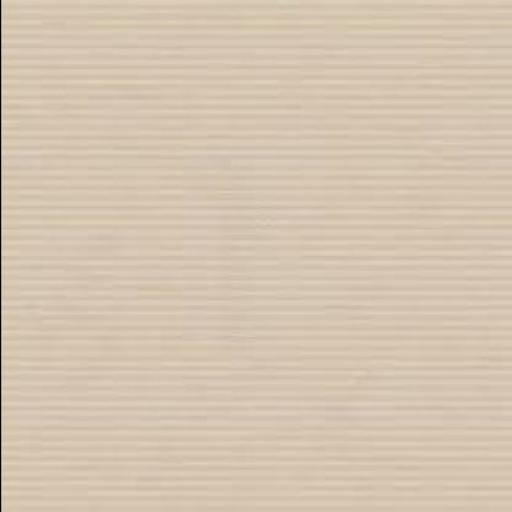cardboard: (2, 1, 511, 511)
